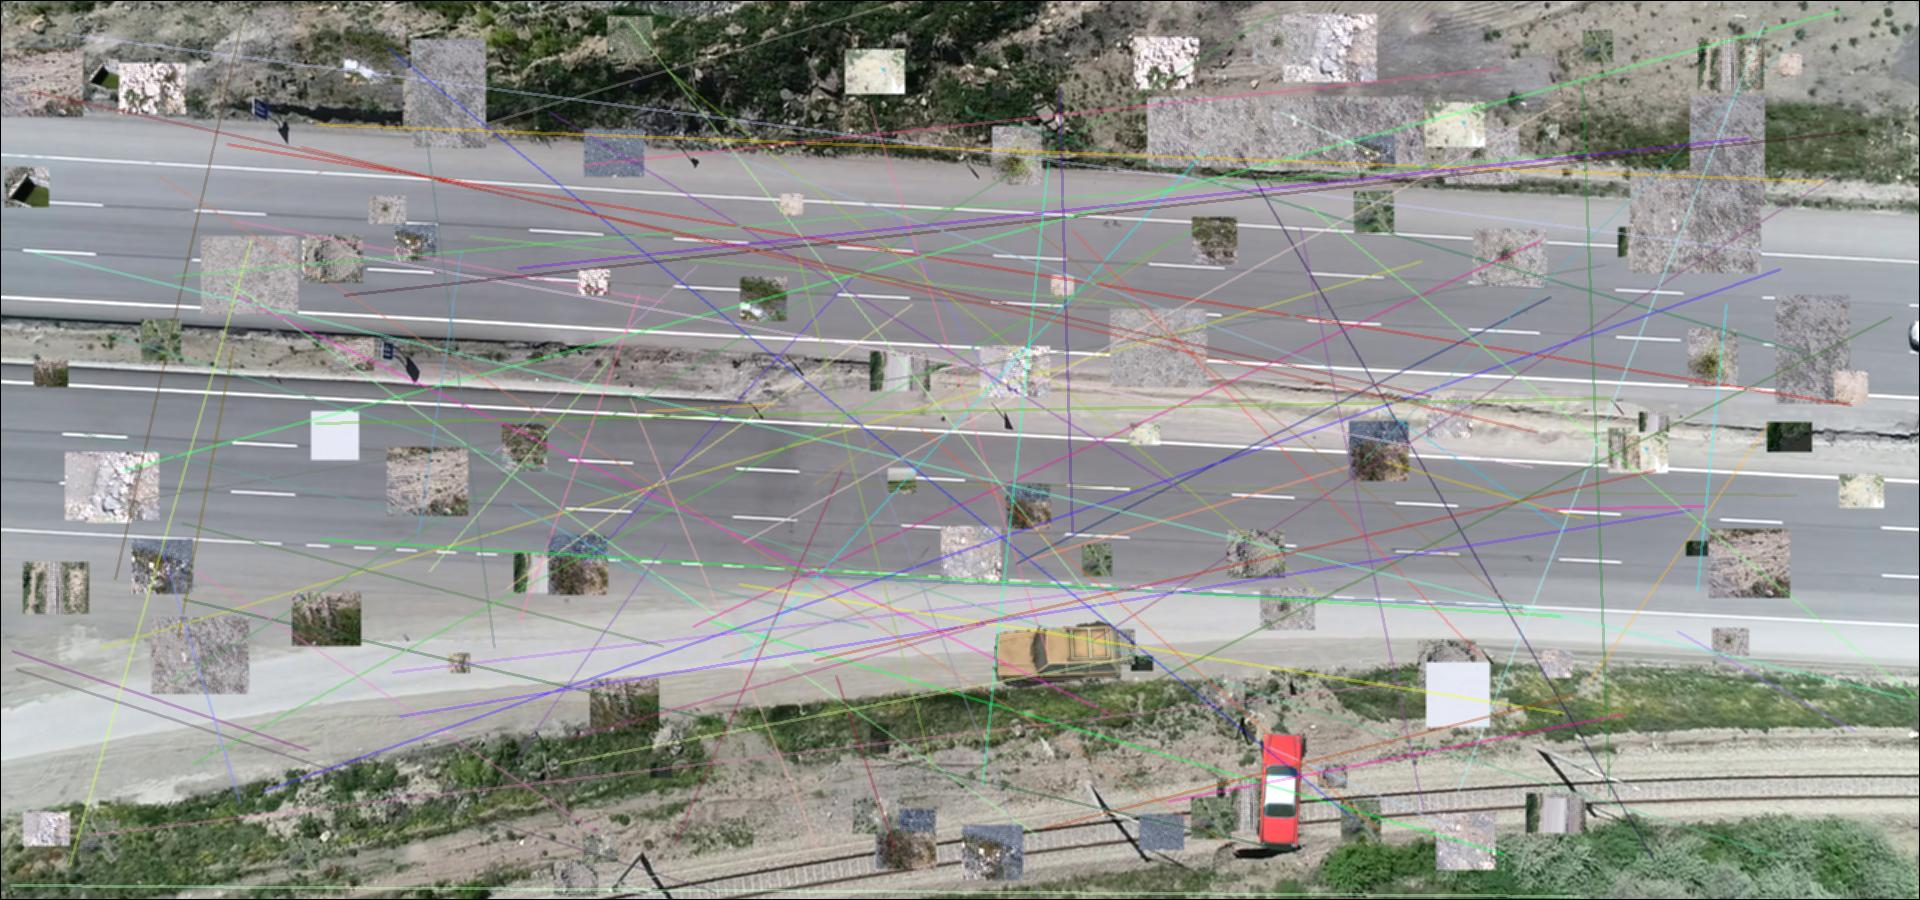arac: (993, 620, 1125, 691), (1256, 733, 1307, 852)
